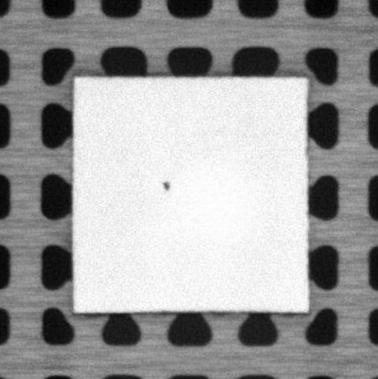DIE_INK: (160, 179, 173, 192)
